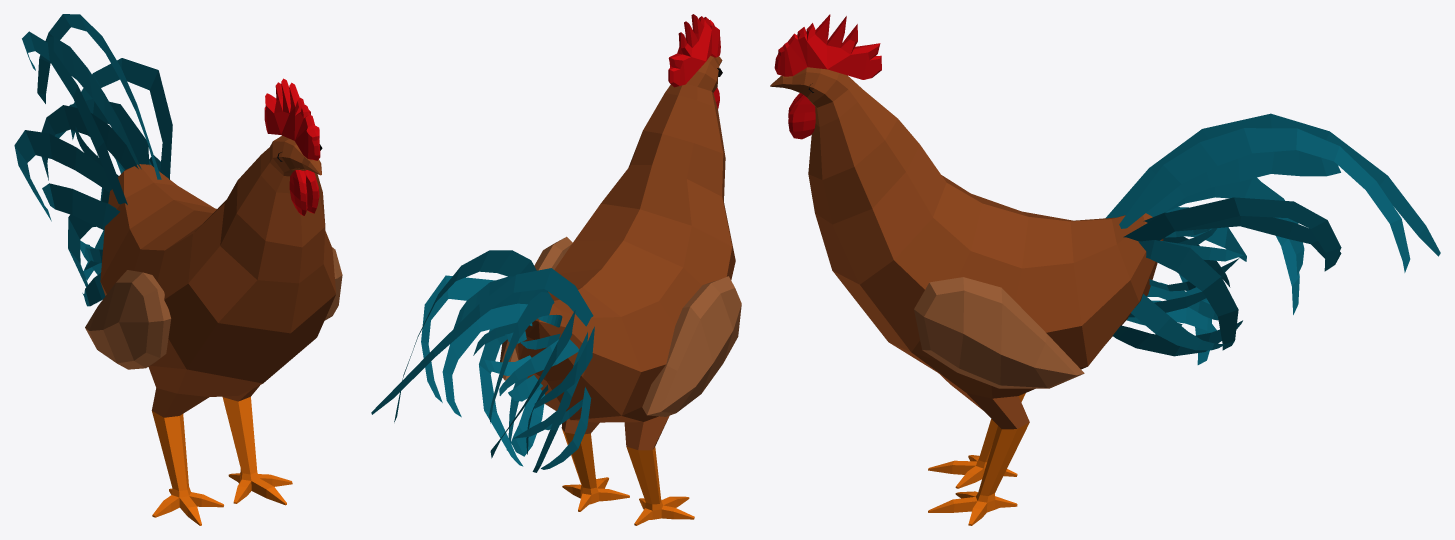
Rendered from uploads_files_5656858_rooster.fbx.
3 views of the same model, side by side, from view 1: azimuth 30°, elevation 25°; view 2: azimuth 150°, elevation 25°; view 3: azimuth 270°, elevation 25° (orthographic). The views are drawn at different scales.
Parts seen in each view (by area): view 1: Cube.005; view 2: Cube.005; view 3: Cube.005.
Part boxes in pixels (x1=…): Cube.005: x1=14, y1=14, x2=342, y2=525; Cube.005: x1=371, y1=14, x2=741, y2=525; Cube.005: x1=770, y1=14, x2=1440, y2=525.
Size of the model in its own units: 99.88 by 208 by 265.
